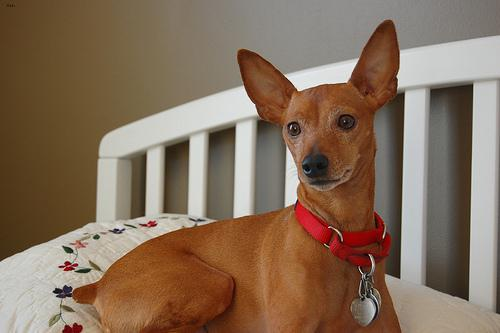dog-miniature_pinscher: (235, 18, 399, 191)
